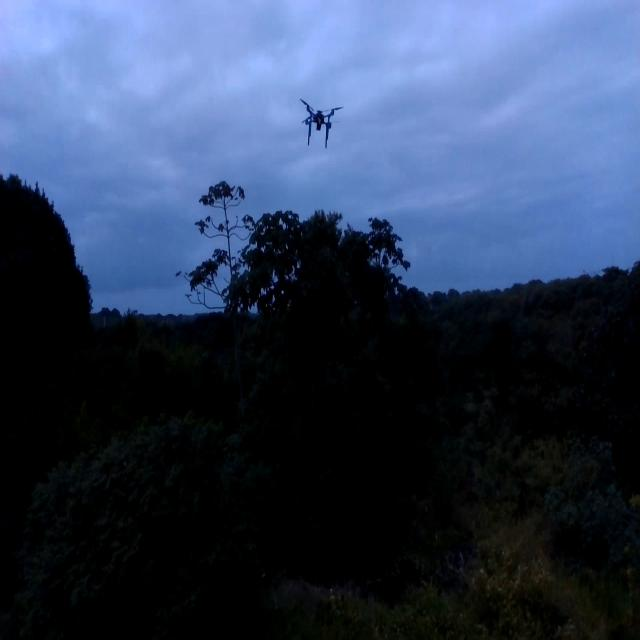-uav-: (294, 84, 344, 158)
